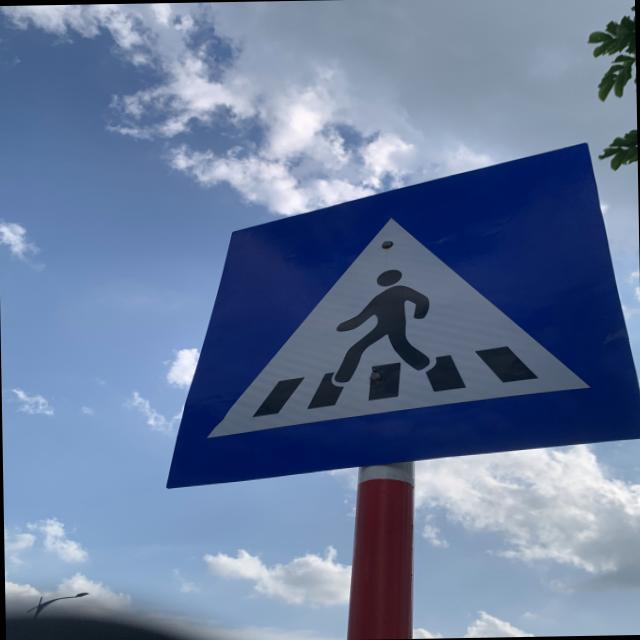Giao_Nhau_Duong_Uu_Tien: (163, 141, 640, 489)
